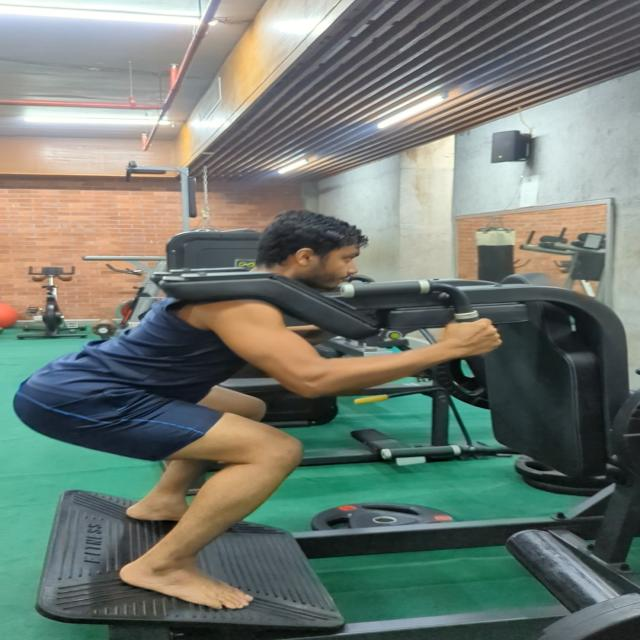Normal_SquatsWithBarbell: (23, 197, 520, 612)
